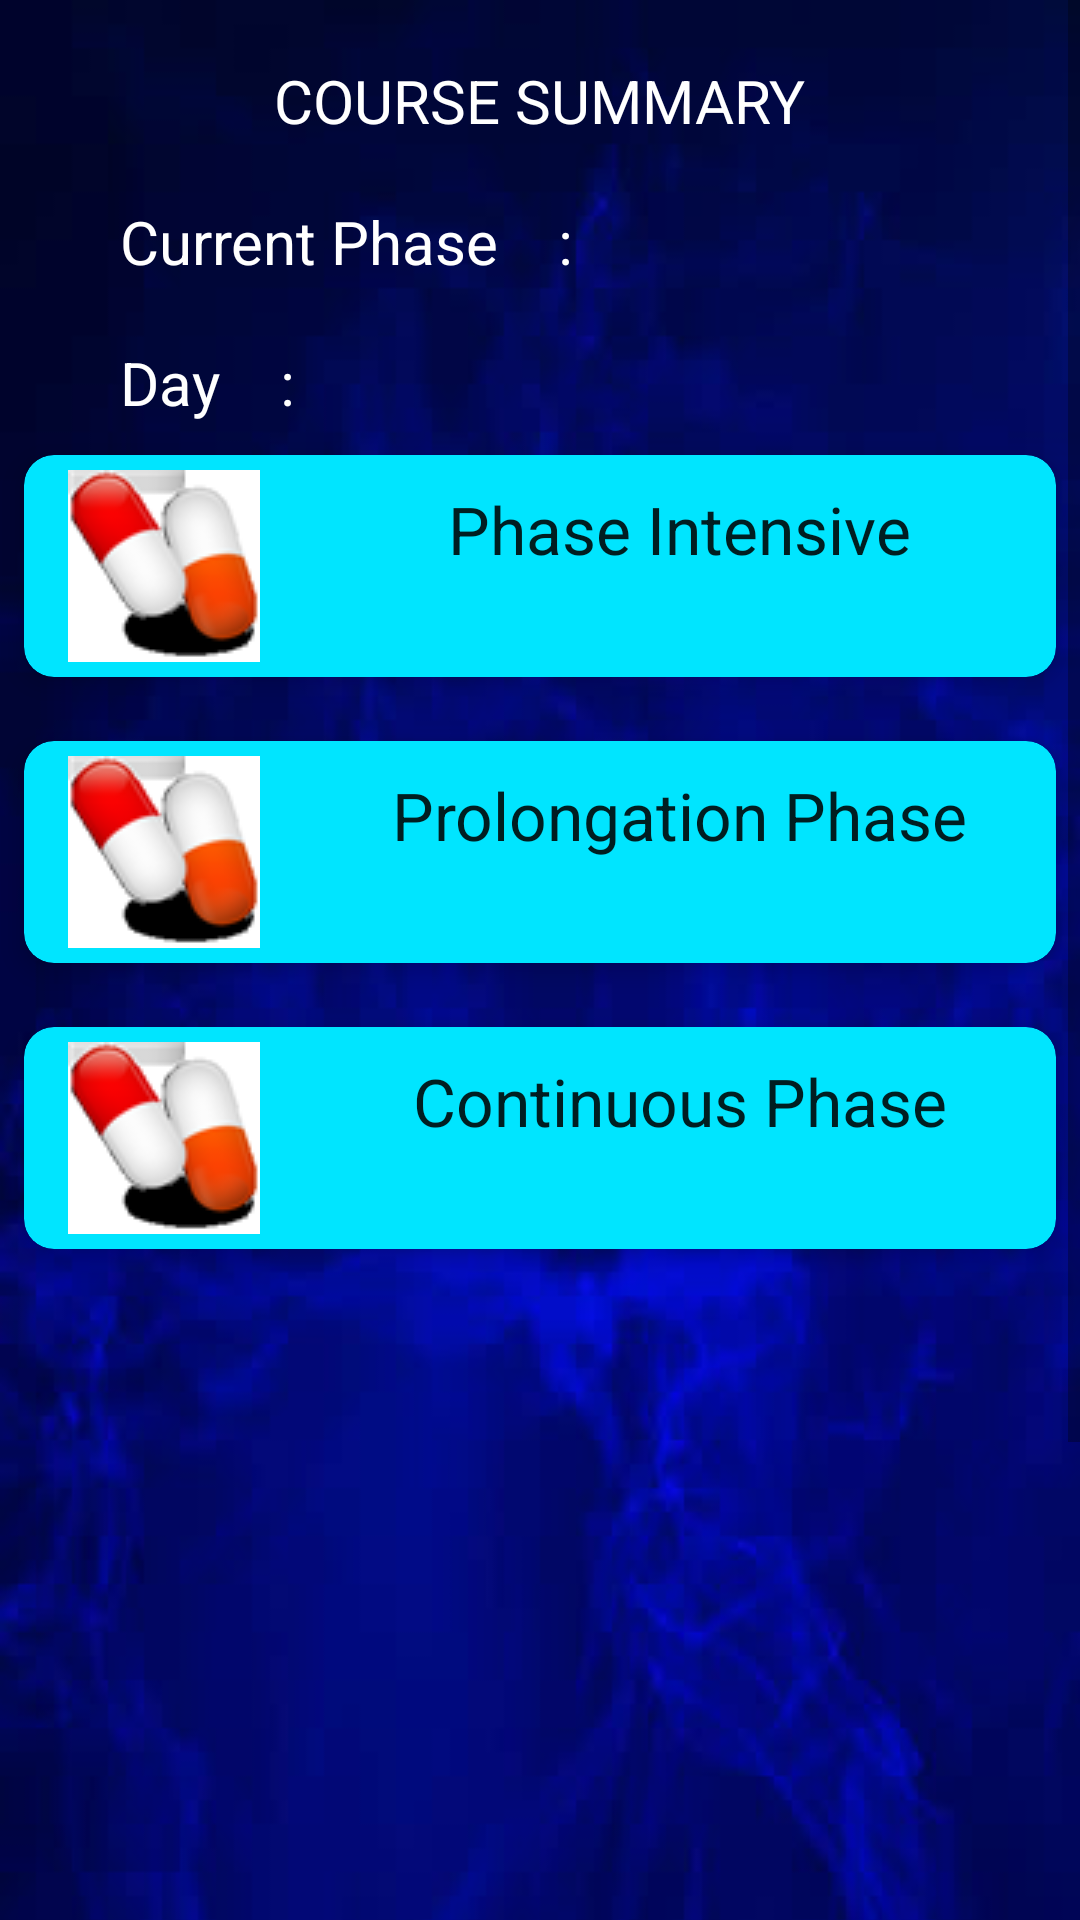

Icons on this 1080px x 1920px Android screen, each with the point to tap as (x=x, y=y):
pill: (x=164, y=566), (x=164, y=852), (x=164, y=1138)
